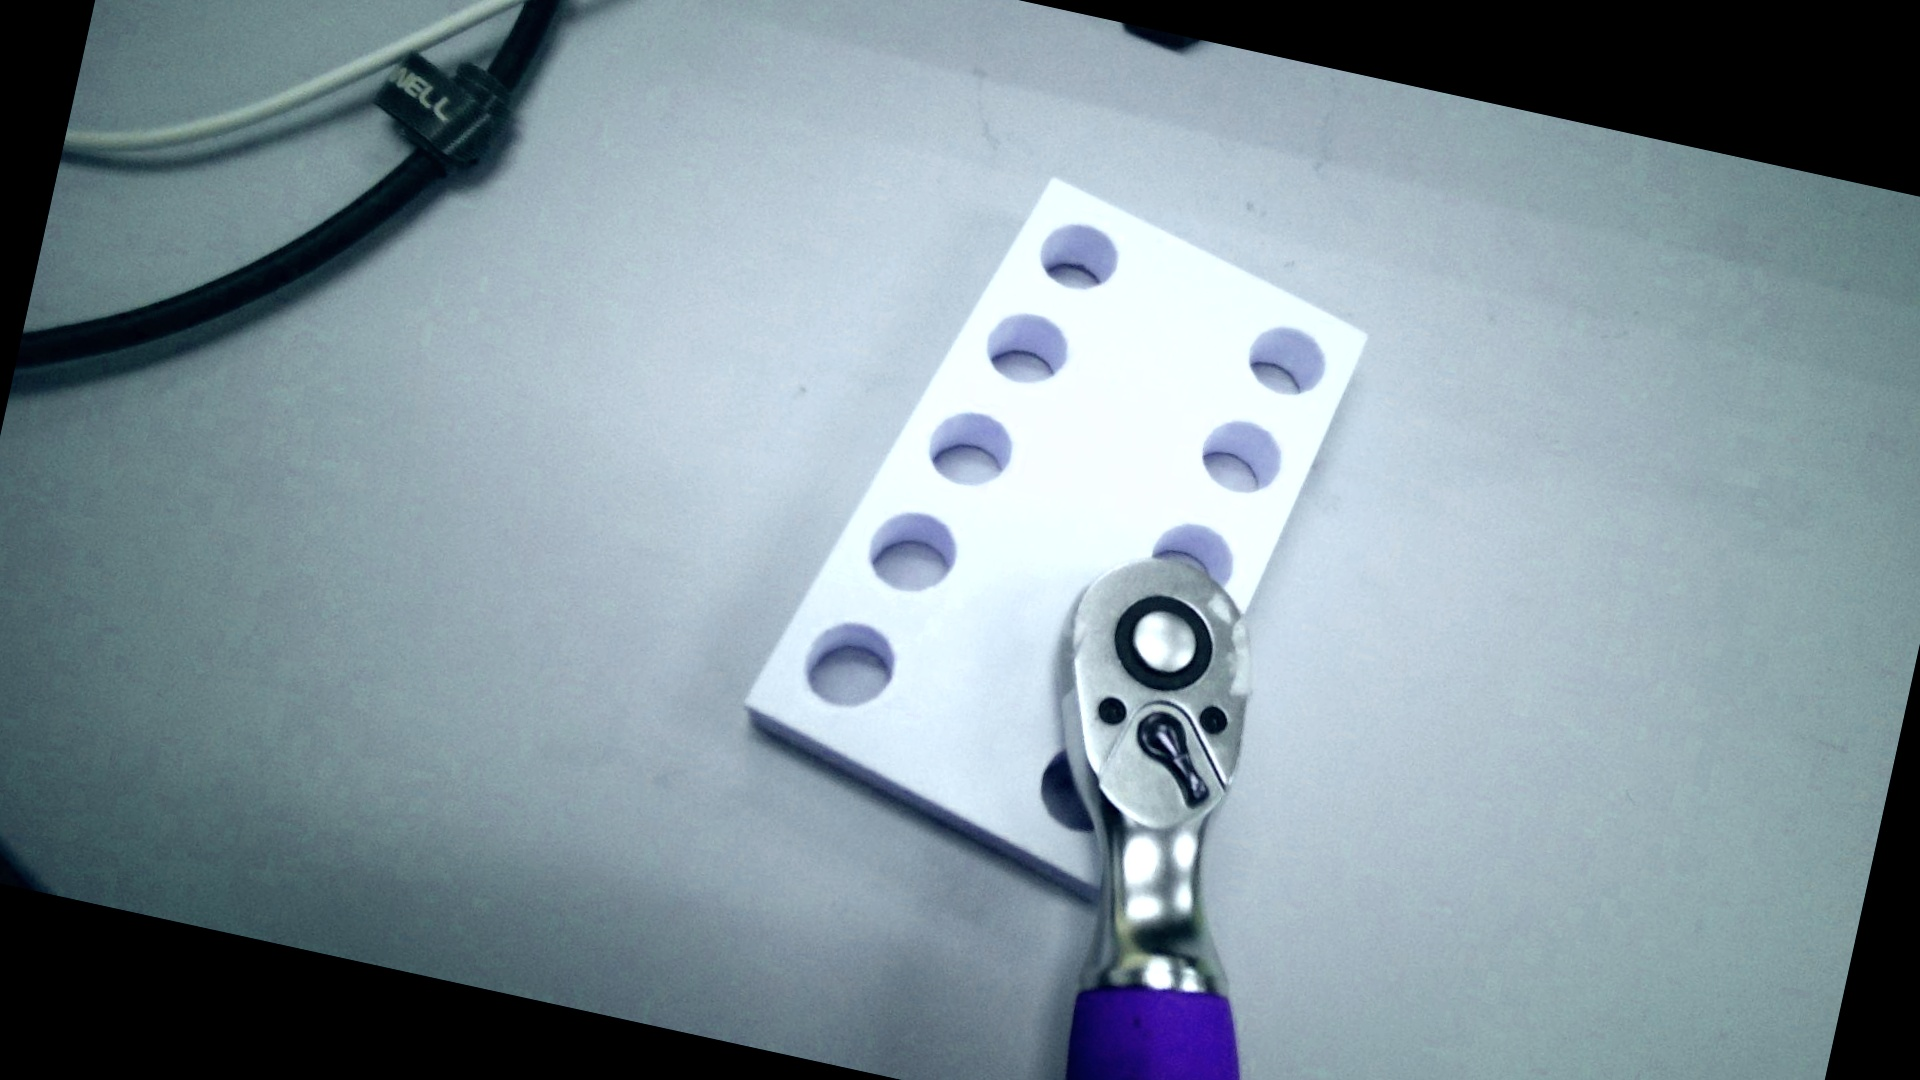hole: (857, 502, 964, 601), (796, 613, 899, 715), (918, 402, 1019, 495), (978, 305, 1073, 392), (1033, 742, 1118, 837), (1240, 318, 1332, 404), (1196, 414, 1287, 498), (1034, 218, 1125, 295), (1147, 517, 1241, 592)
obj: (717, 135, 1389, 938)
wrench: (1104, 585, 1222, 703)
